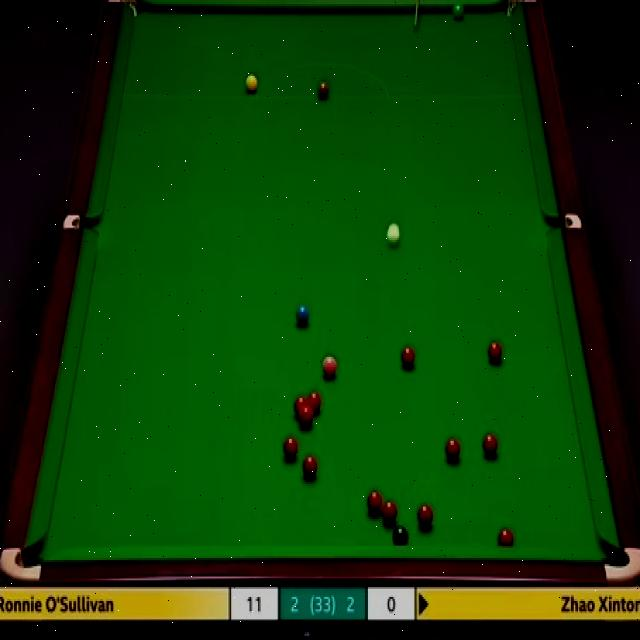black-ball: (393, 524, 409, 546)
blue-ball: (294, 304, 312, 326)
brown-ball: (317, 78, 329, 99)
green-ball: (453, 2, 465, 17)
pink-ball: (322, 356, 338, 381)
red-ball: (444, 437, 463, 464), (416, 504, 434, 532), (382, 498, 398, 528), (280, 438, 300, 461), (399, 343, 416, 370), (366, 491, 383, 517), (483, 433, 500, 458), (487, 340, 502, 366), (297, 462, 315, 483), (293, 396, 308, 421), (308, 391, 321, 416), (496, 527, 514, 545), (300, 409, 314, 429)
white-ball: (386, 223, 399, 244)
yellow-ball: (245, 76, 257, 93)
